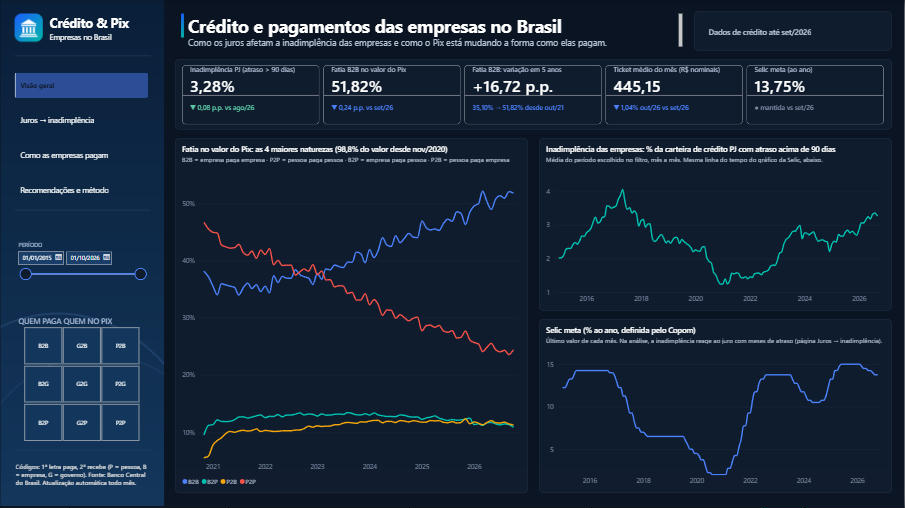

The page's visual inventory and layout, read from the dashboard file:
{"tool":"powerbi","page":{"name":"Visão geral","canvas":[1920,1080],"ordinal":0},"visuals":[{"type":"cardVisual","fields":{"Data":["gold_pix_natureza_mensal._Inadimplência PJ (último mês)","gold_pix_natureza_mensal._Participação B2B (último mês)","gold_pix_natureza_mensal._Variação B2B em 5 anos","gold_pix_natureza_mensal._Ticket Médio","gold_pix_natureza_mensal._Selic (último mês)"]},"box":[372,126,1524,150],"z":0},{"type":"textbox","box":[384,18,1080,96],"z":1000},{"type":"lineChart","title":"Selic (azul, eixo esq.) × inadimplência das empresas (verde, eixo dir.), em %","fields":{"Category":["dCalendario.data"],"Y":["gold_pix_natureza_mensal._Selic"],"Y2":["gold_pix_natureza_mensal._Inadimplência PJ"]},"box":[1146,294,750,755],"z":2000},{"type":"lineChart","title":"Fatia no valor do Pix: as 4 maiores naturezas (98,8% do valor desde nov/2020)","fields":{"Category":["dCalendario.data"],"Series":["dNatureza.natureza"],"Y":["gold_pix_natureza_mensal._Participação no Valor"]},"box":[372,294,750,755],"z":3000},{"type":"textbox","box":[92,20,250,92],"z":3001},{"type":"pageNavigator","box":[18,142,312,300],"z":3002},{"type":"slicer","fields":{"Values":["dCalendario.data"]},"box":[18,500,312,130],"z":3003},{"type":"slicer","fields":{"Values":["dNatureza.natureza"]},"box":[18,660,312,290],"z":3004},{"type":"textbox","box":[20,972,310,90],"z":3009},{"type":"cardVisual","fields":{"Data":["gold_pix_natureza_mensal._Mês de referência"]},"box":[1476,24,420,84],"z":3010}]}

Visuals, with their boxes in screenshot pixels (x1, y1, x2, y2), scaled from the page's 1920x1080 canvas onto the 905x508 screenshot:
cardVisual - gold_pix_natureza_mensal._Inadimplência PJ (último mês) x gold_pix_natureza_mensal._Participação B2B (último mês): 175, 59, 894, 130
textbox: 181, 8, 690, 54
"Selic (azul, eixo esq.) × inadimplência das empresas (verde, eixo dir.), em %" lineChart: 540, 138, 894, 493
"Fatia no valor do Pix: as 4 maiores naturezas (98,8% do valor desde nov/2020)" lineChart: 175, 138, 529, 493
textbox: 43, 9, 161, 53
pageNavigator: 8, 67, 156, 208
slicer - dCalendario.data: 8, 235, 156, 296
slicer - dNatureza.natureza: 8, 310, 156, 447
textbox: 9, 457, 156, 500
cardVisual - gold_pix_natureza_mensal._Mês de referência: 696, 11, 894, 51
